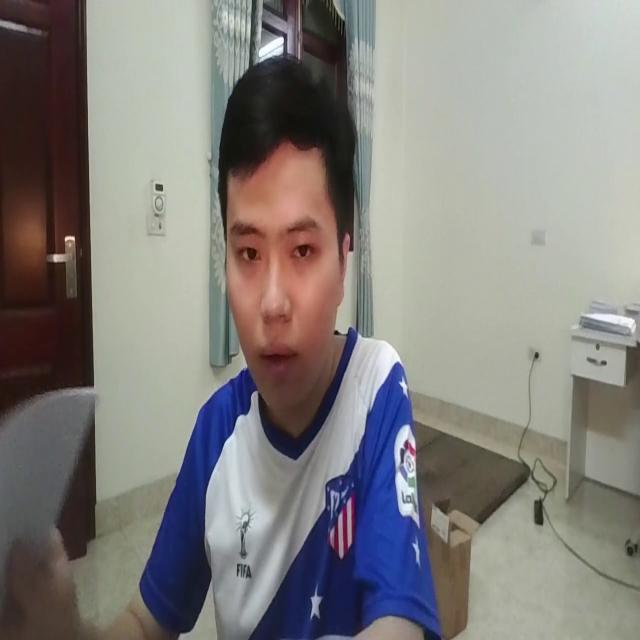book: (0, 355, 101, 616)
student: (108, 43, 454, 640)
